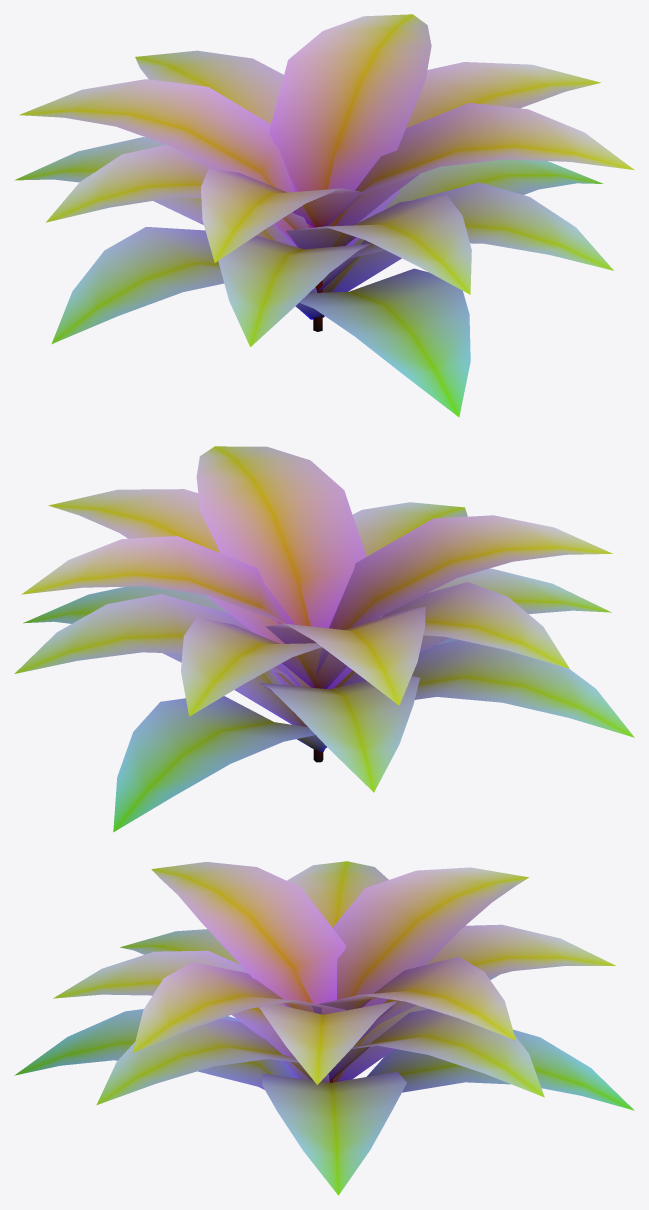
Rendered from Fern_A1_01.fbx.
3 renders of one model, top to bottom at view 1: azimuth 30°, elevation 25°; view 2: azimuth 150°, elevation 25°; view 3: azimuth 270°, elevation 25°, orthographic. The views are drawn at different scales.
Visible parts, largest first — view 1: Fern_A1_01_LOD0; view 2: Fern_A1_01_LOD0; view 3: Fern_A1_01_LOD0.
Boxes of the visible parts, left/top/right/bottom form: Fern_A1_01_LOD0: left=14, top=14, right=634, bottom=417; Fern_A1_01_LOD0: left=14, top=446, right=634, bottom=832; Fern_A1_01_LOD0: left=14, top=861, right=634, bottom=1195.
Size of what is drawn, in the model's own units: 2.99 by 1.05 by 2.99.
